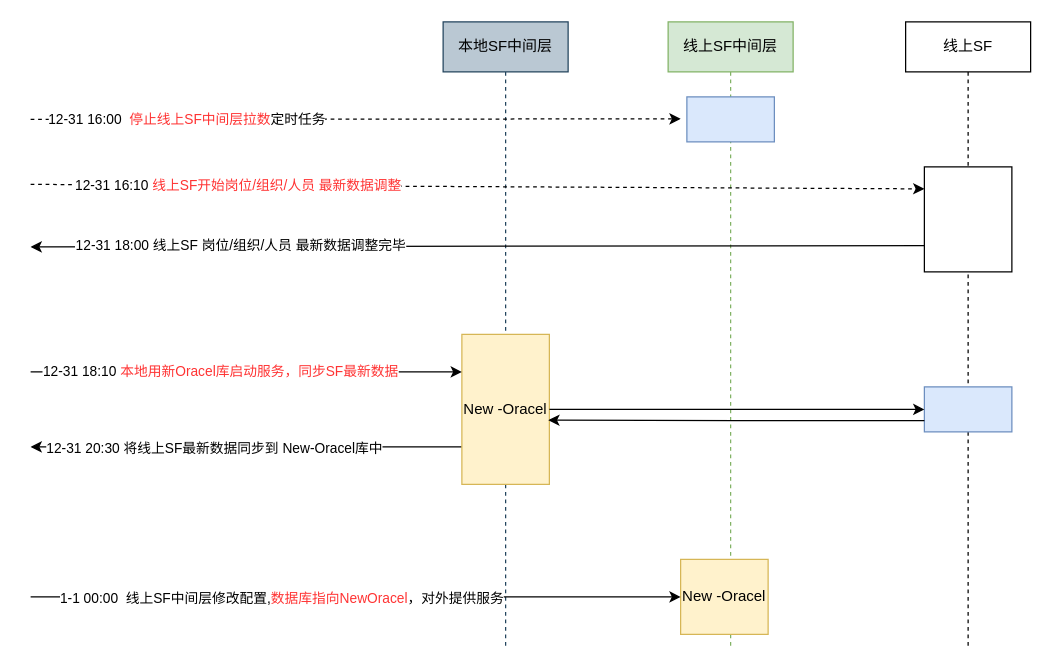
Some shapes in this 1053 by 669 pixel diagram are drawn without their labels. Each missing label, with the centre of its shape:
Old -Oracel: the point at 730,119
线上SF接口: the point at 967,409
线上调整: the point at 967,219
